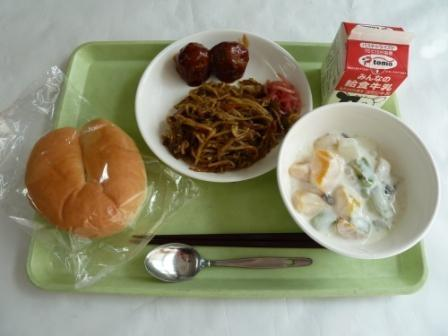Bread: (18, 118, 154, 246)
Fried noodles: (155, 84, 280, 171)
Milk: (315, 17, 412, 114)
cutlet: (167, 27, 260, 87)
salad with sauce: (274, 123, 427, 242)
